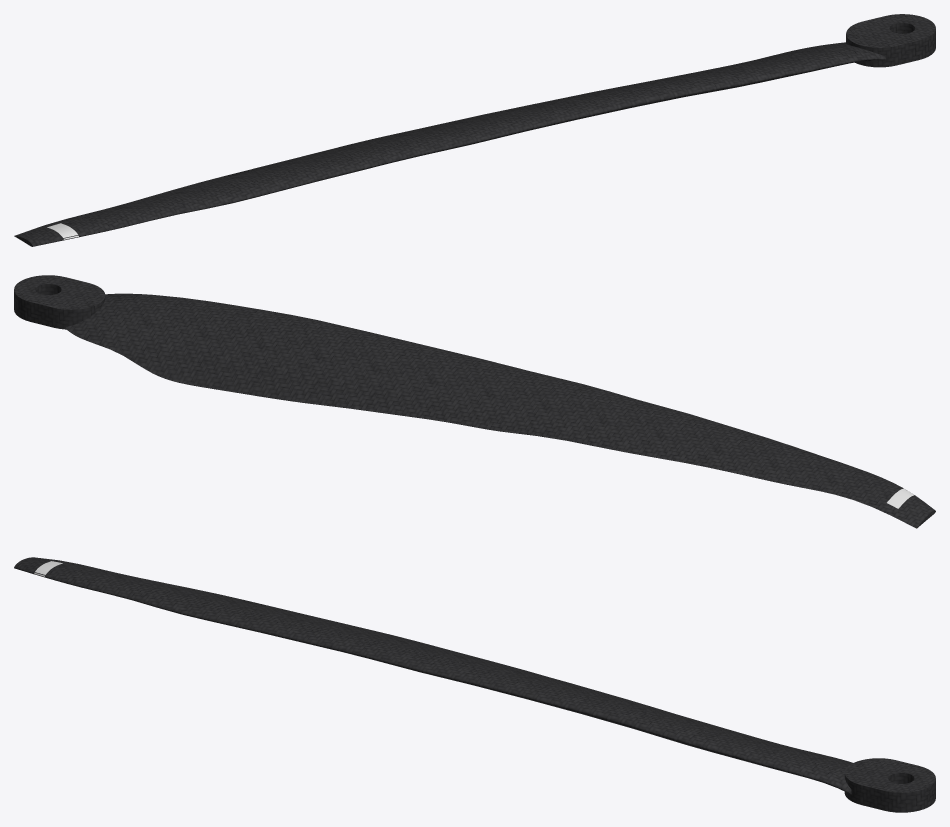
3 views of the same model, one above another, from view 1: azimuth 30°, elevation 25°; view 2: azimuth 150°, elevation 25°; view 3: azimuth 330°, elevation 25° (orthographic).
Visible parts, largest first — view 1: Propela_CCW_2; view 2: Propela_CCW_2; view 3: Propela_CCW_2.
Part boxes in pixels (x1,y1,x2,y2): Propela_CCW_2: [14, 14, 935, 246]; Propela_CCW_2: [14, 275, 935, 528]; Propela_CCW_2: [14, 557, 935, 812].
Size of the model in its own units: 205 by 9.8 by 22.6.
2 materials, 1 textured.
